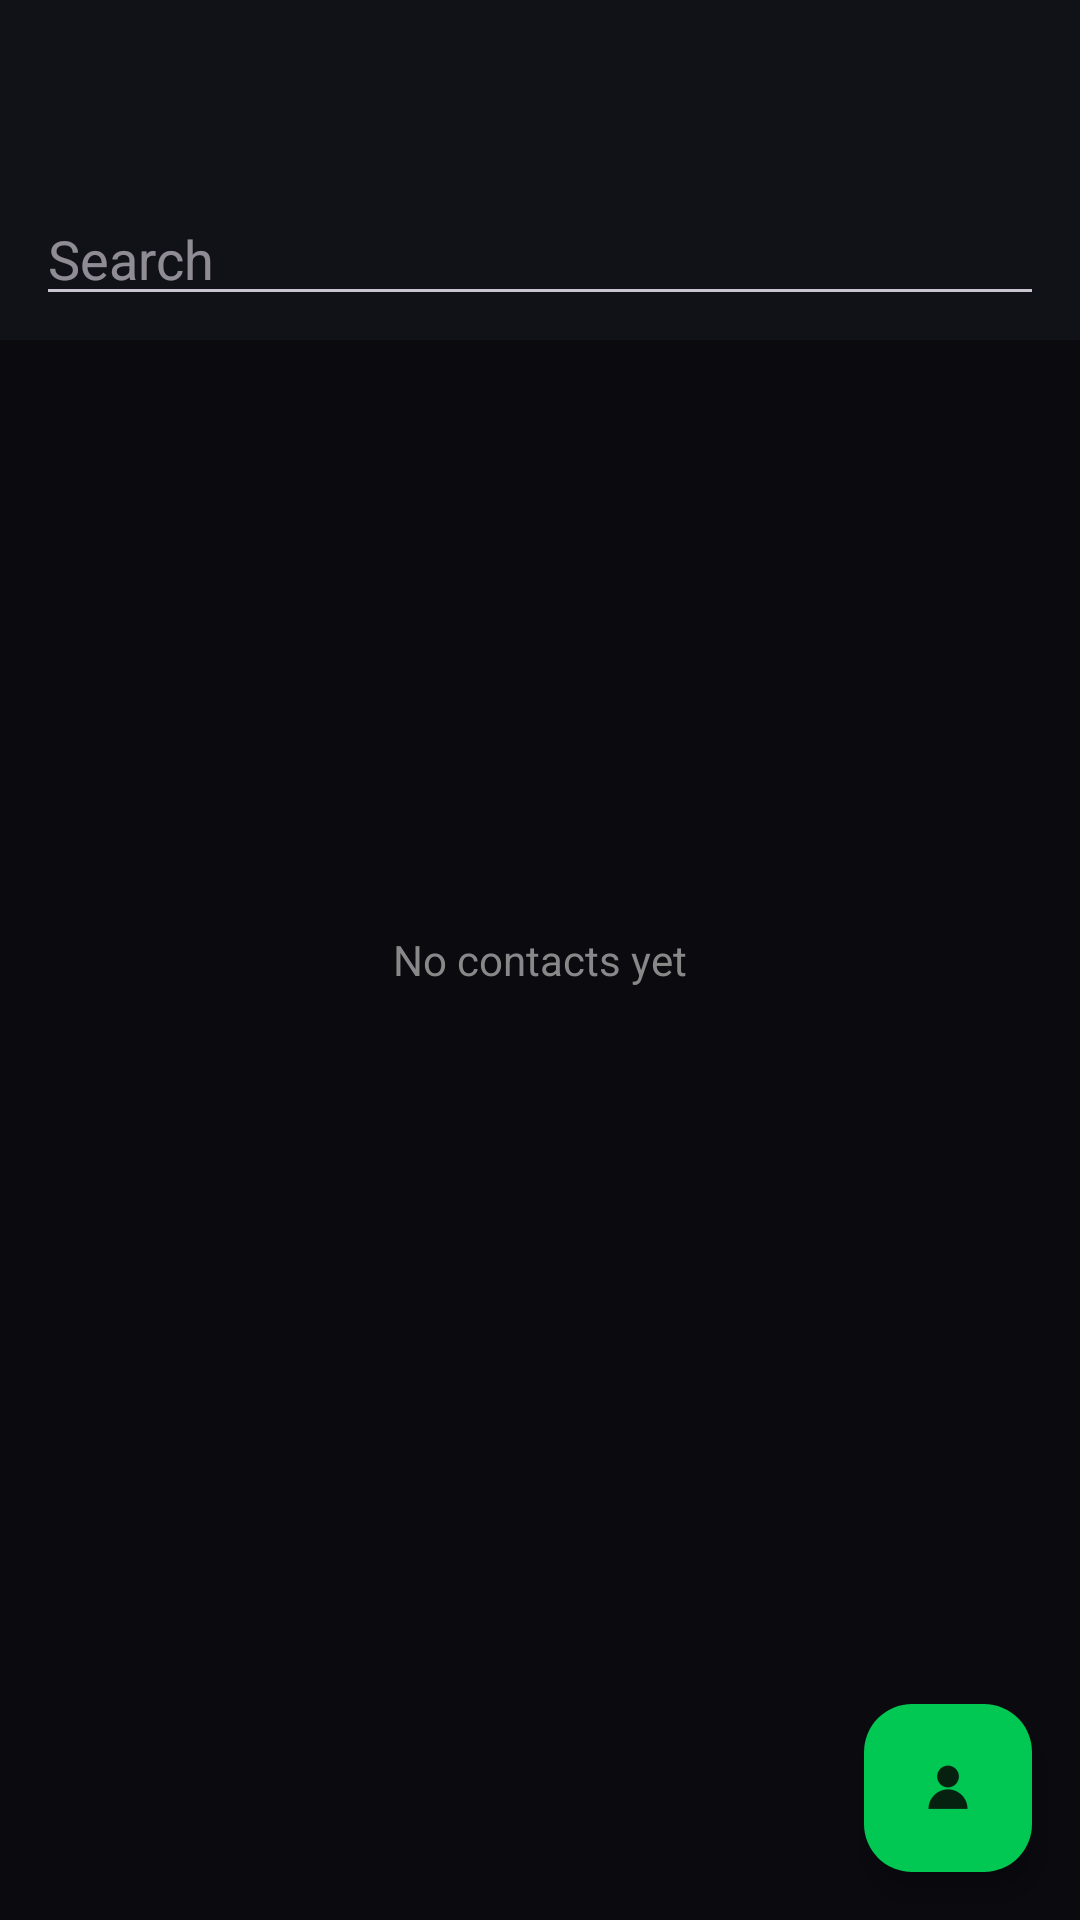

Screen size 1080*1920. Icon name, then its center in pixels as (x=x, y=y):
Add contact: (x=948, y=1788)
